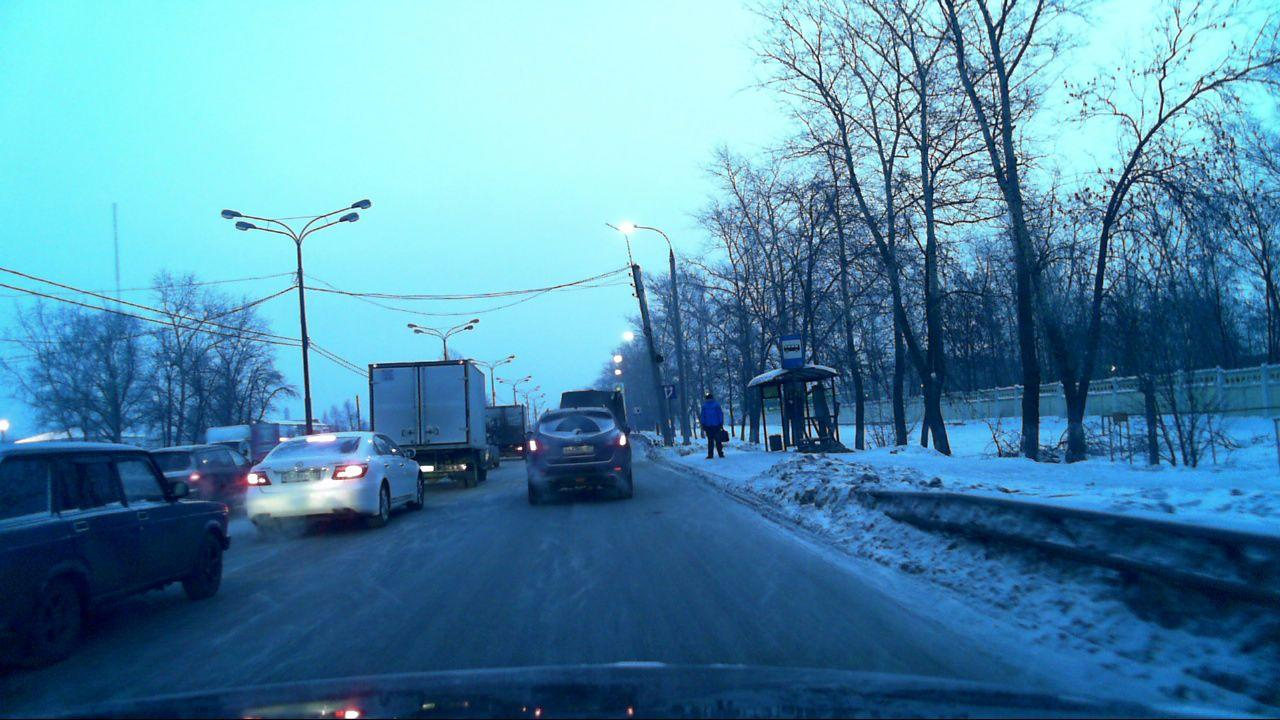5_15_3: (661, 385, 676, 400)
5_16: (779, 335, 805, 370)
7_3: (632, 406, 642, 416)
